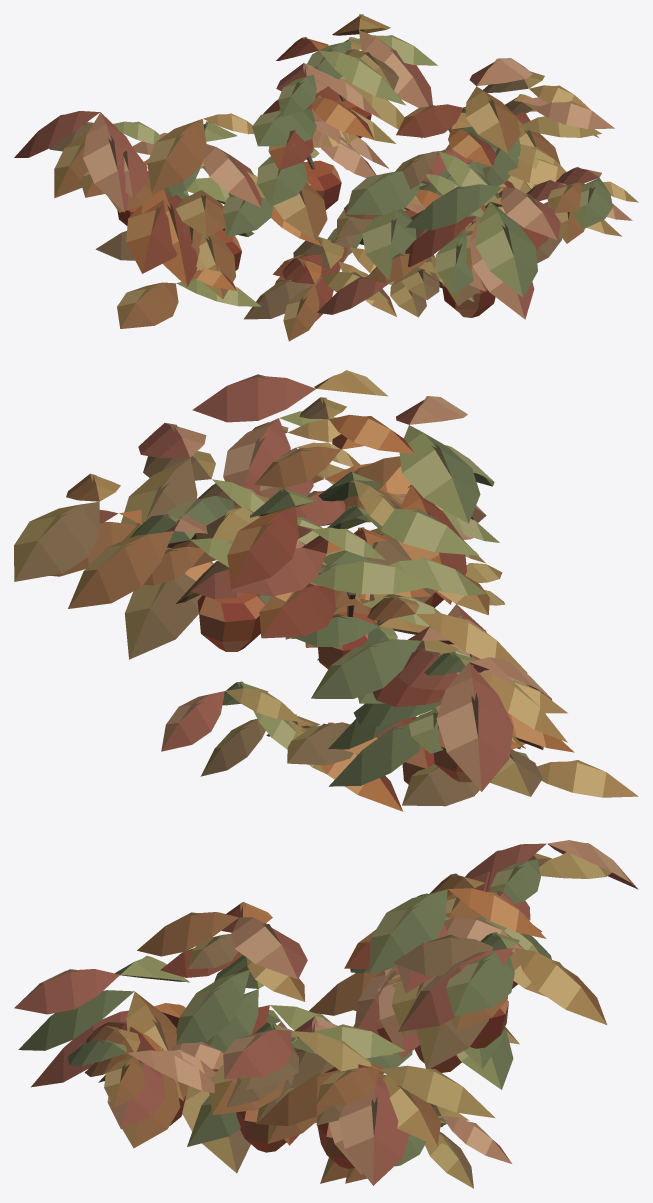
The model's file is apple_autumn.glb.
3 renders of one model, top to bottom at view 1: azimuth 30°, elevation 25°; view 2: azimuth 150°, elevation 25°; view 3: azimuth 270°, elevation 25°, orthographic. The views are drawn at different scales.
Parts seen in each view (by area): view 1: apple_autumn; view 2: apple_autumn; view 3: apple_autumn.
Part boxes in pixels (box(x1,y1,x2,y2)): apple_autumn: box(14, 14, 638, 341); apple_autumn: box(14, 370, 638, 811); apple_autumn: box(14, 840, 638, 1188).
Bounding box in the file's own units: 1.35 × 0.6752 × 1.25.
